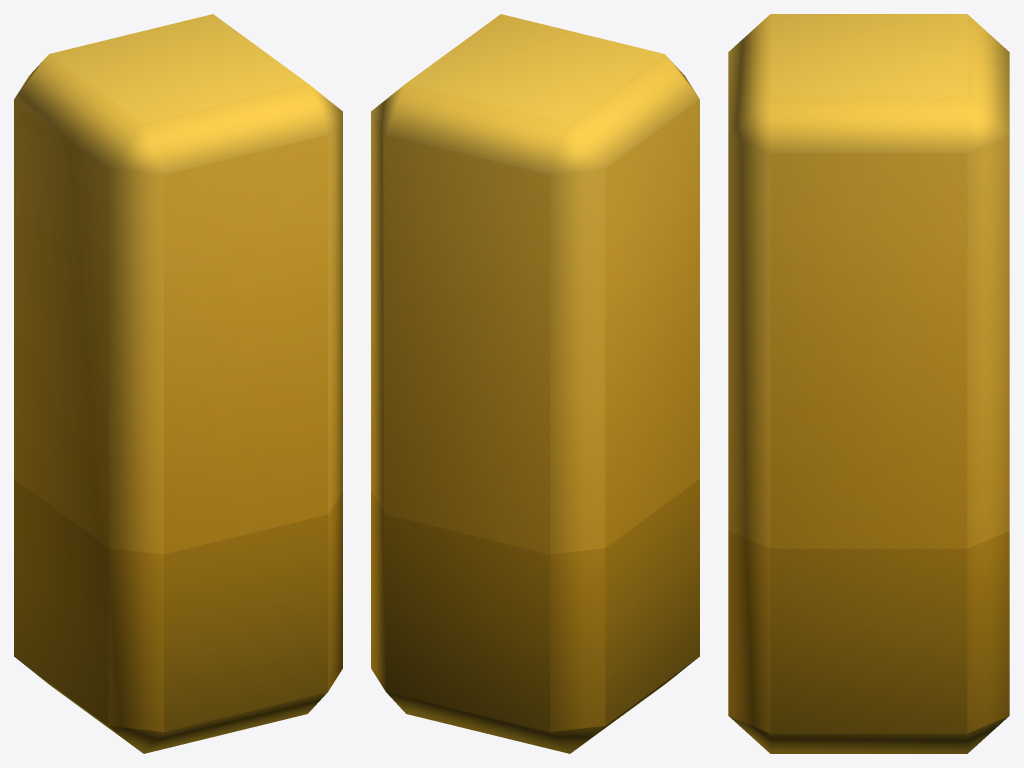
File: pole_blockade.fbx
3 renders of one model, left to right at view 1: azimuth 30°, elevation 25°; view 2: azimuth 150°, elevation 25°; view 3: azimuth 270°, elevation 25°, orthographic. The views are drawn at different scales.
Visible parts, largest first — view 1: pole_blockade; view 2: pole_blockade; view 3: pole_blockade.
Boxes of the visible parts, bbox=[...] form: pole_blockade: bbox=[14, 14, 342, 753]; pole_blockade: bbox=[371, 14, 699, 753]; pole_blockade: bbox=[728, 14, 1009, 753].
Size of the model in its own units: 50 by 129 by 50.
